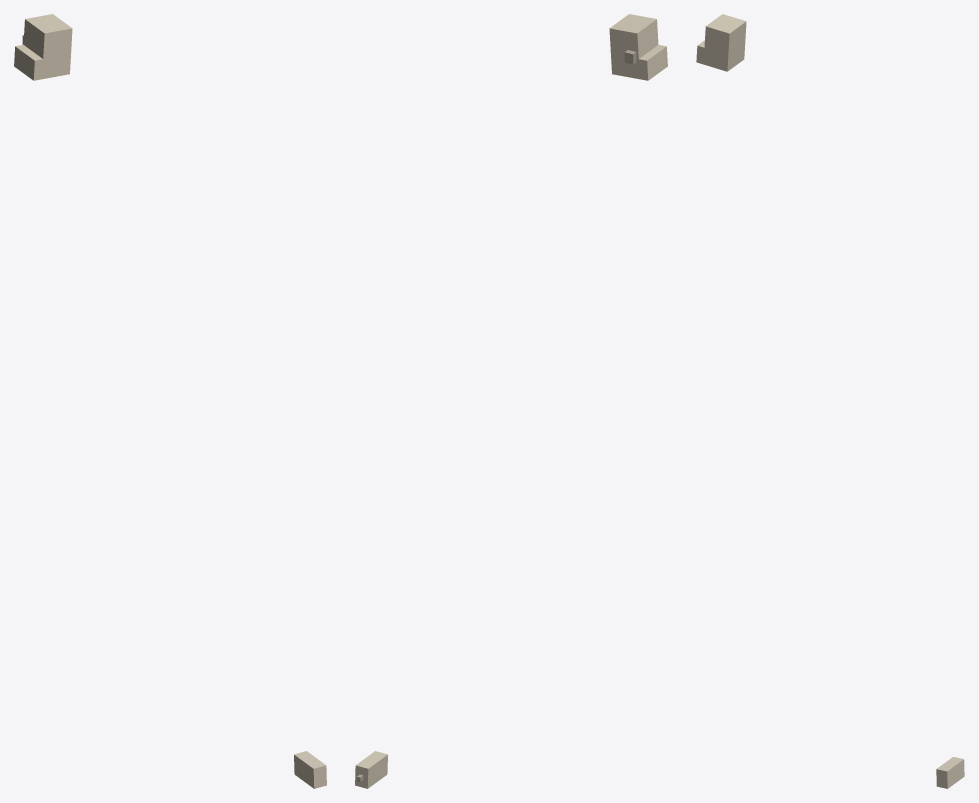
The model's file is historic-palestine-11_36_3534_3308.glb.
3 views of the same model, side by side, from view 1: azimuth 30°, elevation 25°; view 2: azimuth 150°, elevation 25°; view 3: azimuth 330°, elevation 25° (orthographic). The views are drawn at different scales.
Parts seen in each view (by area): view 1: Building_, Building_.001; view 2: Building_, Building_.001; view 3: Building_, Building_.001.
Part boxes in pixels (<box>): Building_: <box>14,14,72,80</box>; Building_.001: <box>294,751,326,788</box>; Building_: <box>609,14,667,80</box>; Building_.001: <box>355,751,387,788</box>; Building_: <box>696,14,746,71</box>; Building_.001: <box>936,757,964,788</box>.
Size of the model in its own units: 64.42 by 172 by 8.7.
